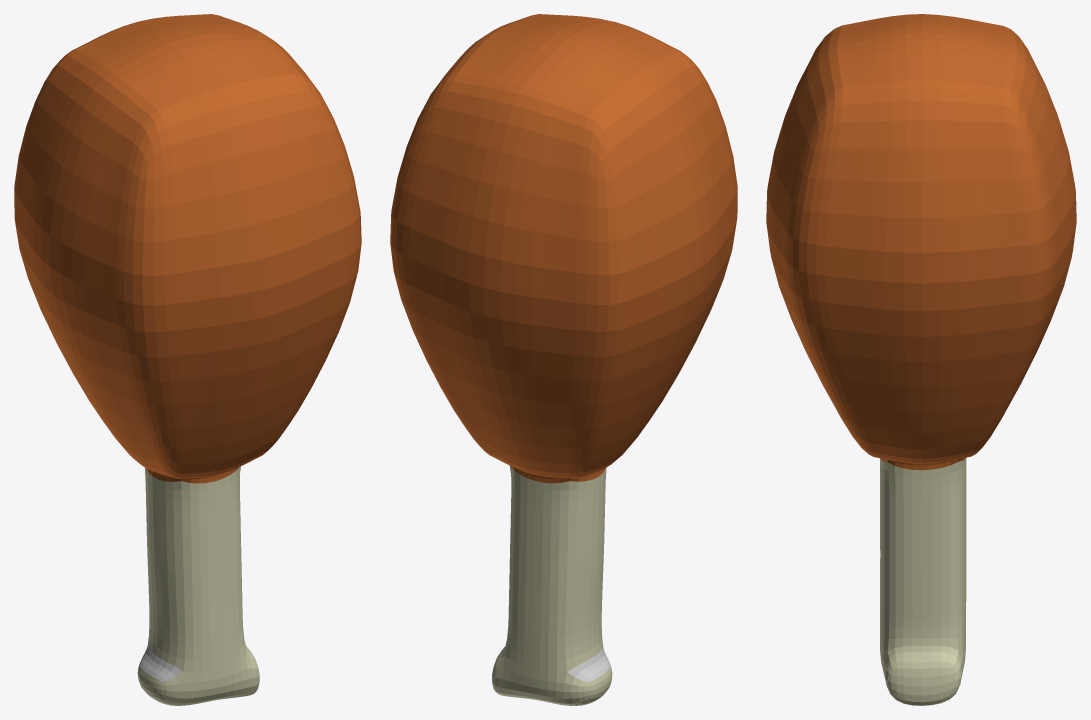
File: cuisse.fbx
The picture shows the model from 3 angles, left to right: view 1: azimuth 30°, elevation 25°; view 2: azimuth 150°, elevation 25°; view 3: azimuth 270°, elevation 25°; orthographic projection. The views are drawn at different scales.
Parts seen in each view (by area): view 1: Cube; view 2: Cube; view 3: Cube.
Boxes of the visible parts, x1,y1,x2,y2 form: Cube: [14, 14, 361, 705]; Cube: [390, 14, 737, 705]; Cube: [766, 14, 1076, 705].
Bounding box in the file's own units: 136 × 314 × 137.
